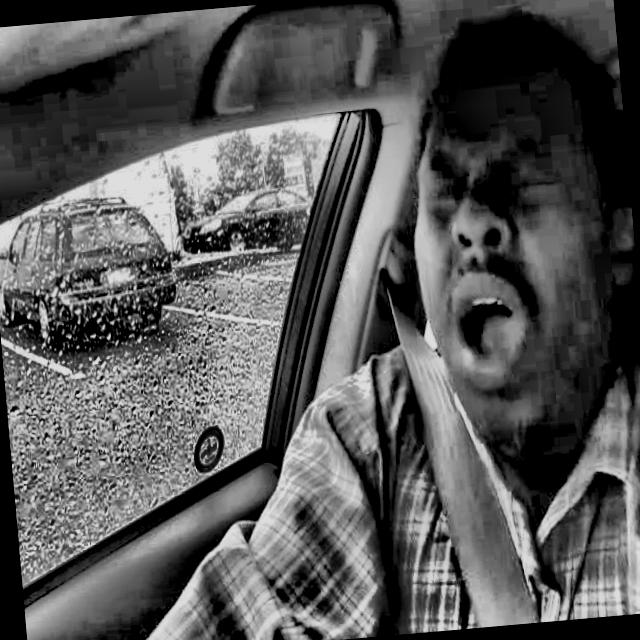closed_eyes: (489, 150, 577, 211), (407, 161, 472, 216)
open_mouth: (432, 265, 554, 417)
